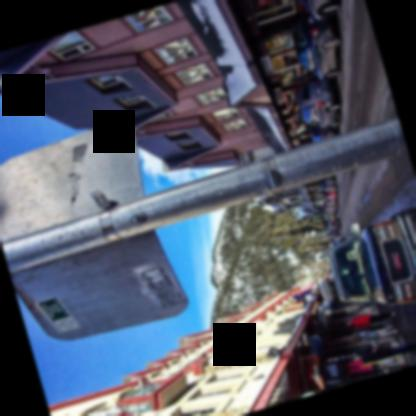handbag: (376, 341, 391, 349)
